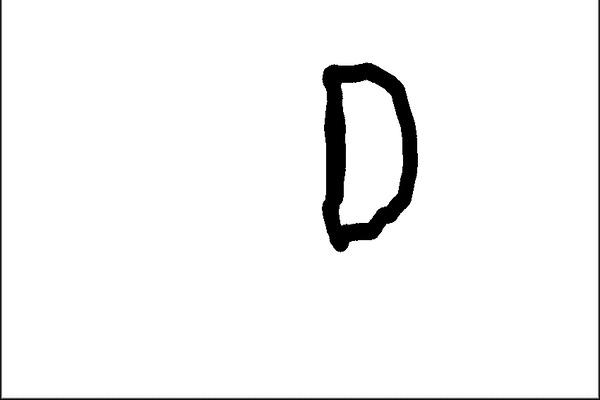D: (313, 56, 425, 254)
